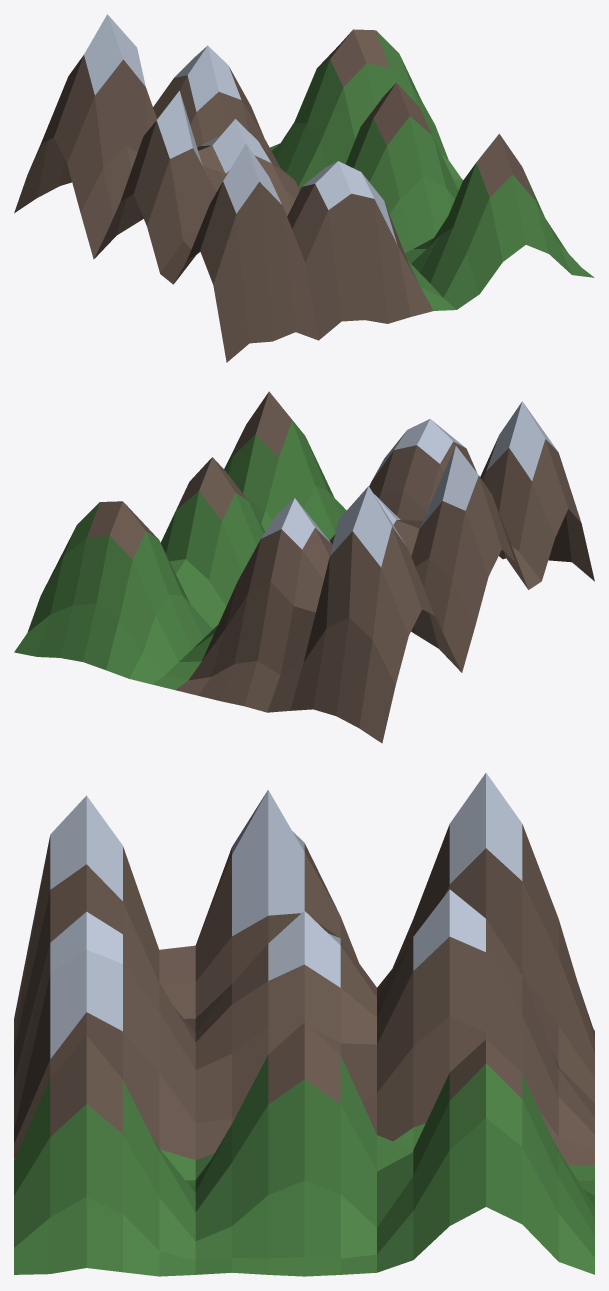
File: MountainModel3.fbx
The picture shows the model from 3 angles, top to bottom: view 1: azimuth 30°, elevation 25°; view 2: azimuth 150°, elevation 25°; view 3: azimuth 270°, elevation 25°; orthographic projection. The views are drawn at different scales.
Parts seen in each view (by area): view 1: Plane.001; view 2: Plane.001; view 3: Plane.001.
Part boxes in pixels (x1=…): Plane.001: x1=14, y1=14, x2=594, y2=362; Plane.001: x1=14, y1=391, x2=594, y2=743; Plane.001: x1=14, y1=773, x2=594, y2=1276.
Size of the model in its own units: 1000 by 559 by 1000.
